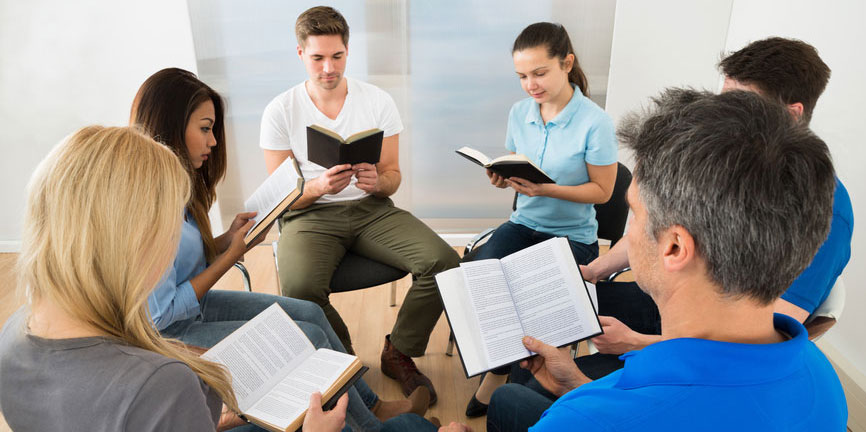Person: (263, 7, 450, 389), (623, 81, 784, 432), (15, 120, 184, 402), (493, 24, 606, 268)
